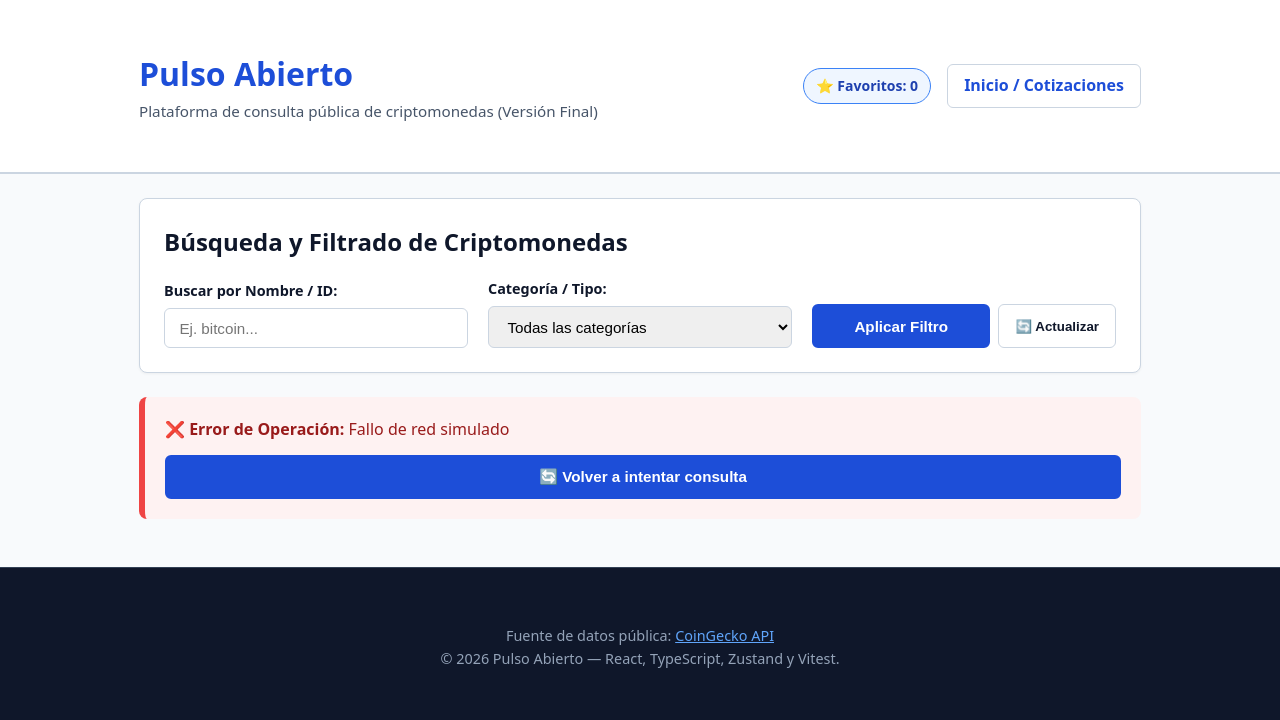
Integración de comportamientos observables - Pulso Abierto › muestra mensaje de error y permite reintentar exitosamente
The image size is (1280, 720).
Expected: the message shows "Error de Operación", [189,418,344,440]
Expected: the message shows "Fallo de red simulado", [349,418,510,440]
Step 1. Click the button "🔄 Volver a intentar consulta" → (643, 477), box [165,455,1121,499]
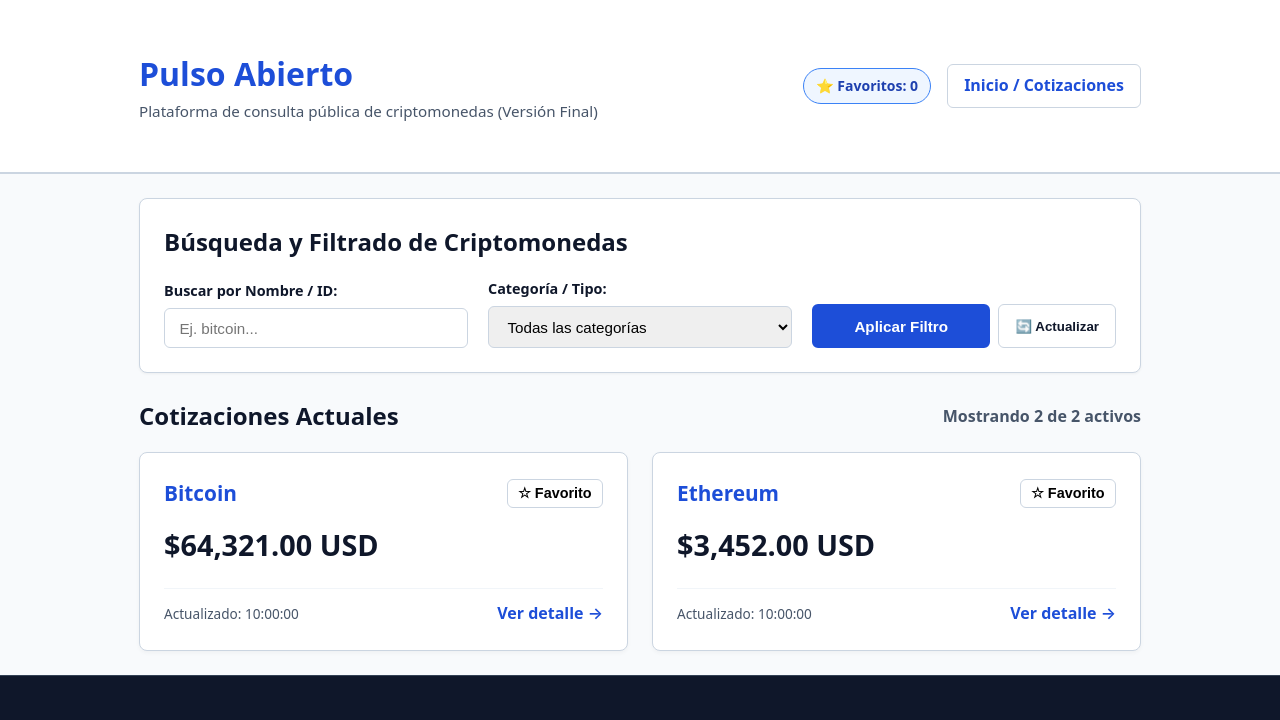
Now the heading "Bitcoin" is shown, box [164,476,237,510]
